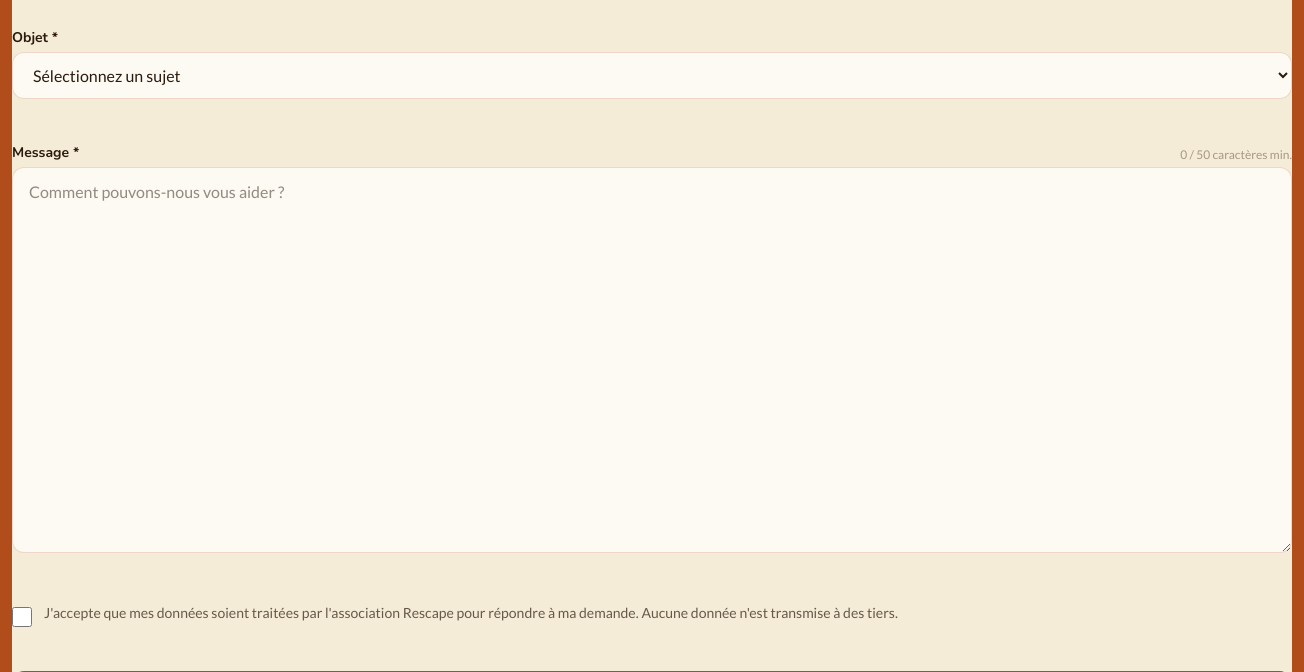
it: ContactForm — Character Counter › should update the counter in real-time as the user types
(page scrolled)
Type "Bonjour" into the text box labelled "Message *" at (652, 360), box [12,167,1292,553]
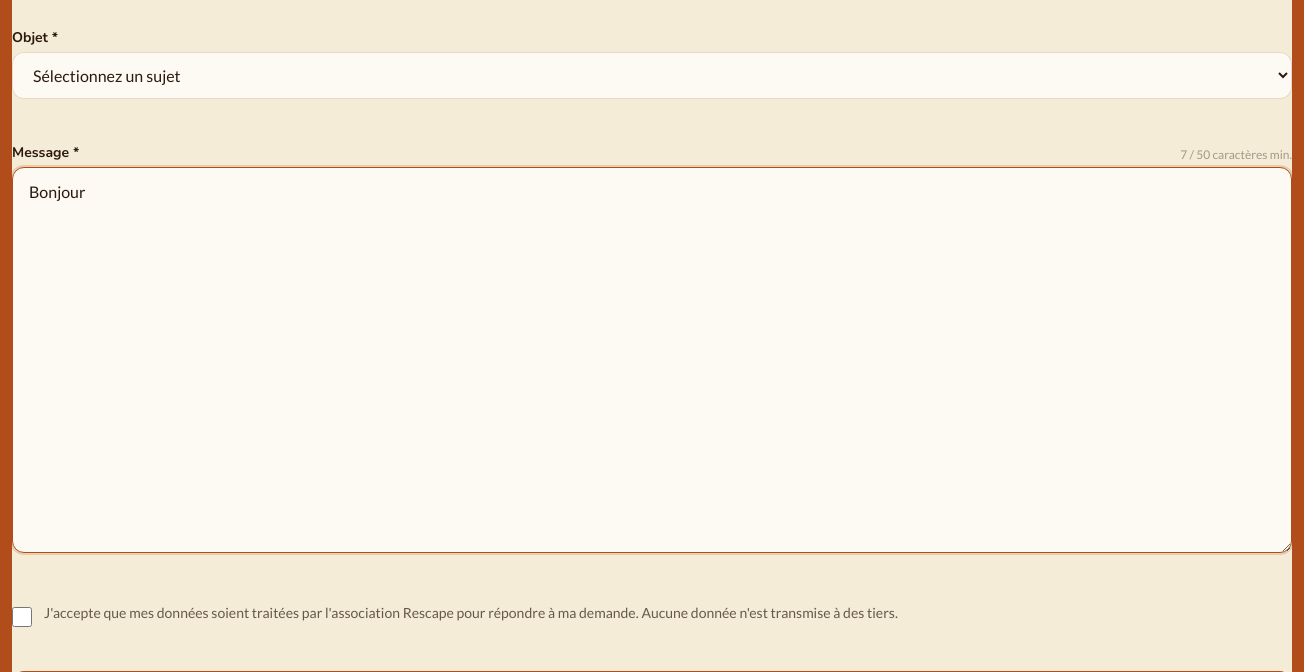
Now the text "7 / 50 caractères min." is shown, box [1180,147,1292,163]
